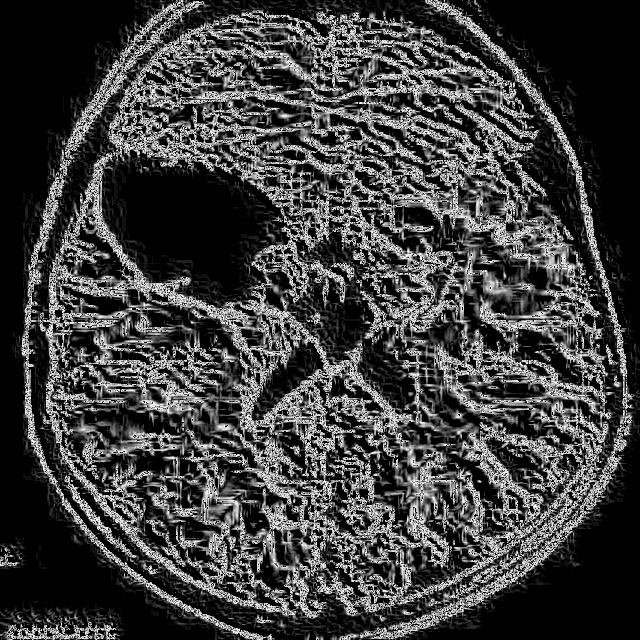Brain-Tumor: (82, 133, 303, 334)
